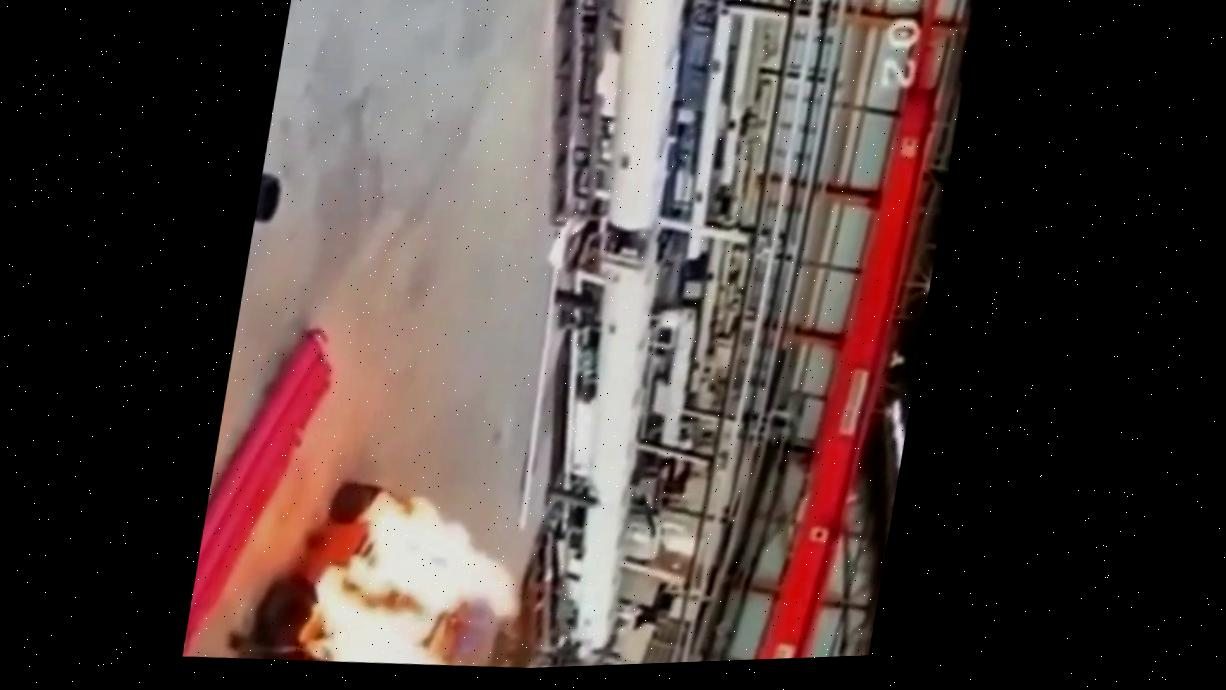fire: (201, 442, 609, 656)
